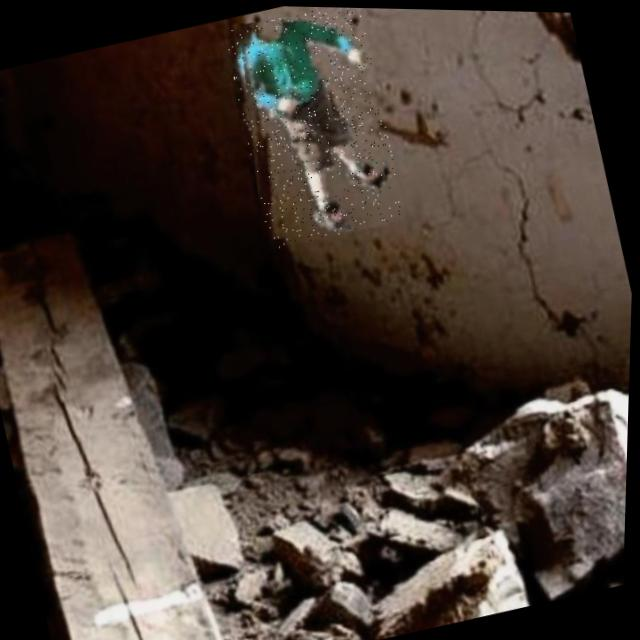Person in Rubble: (218, 4, 412, 250)
